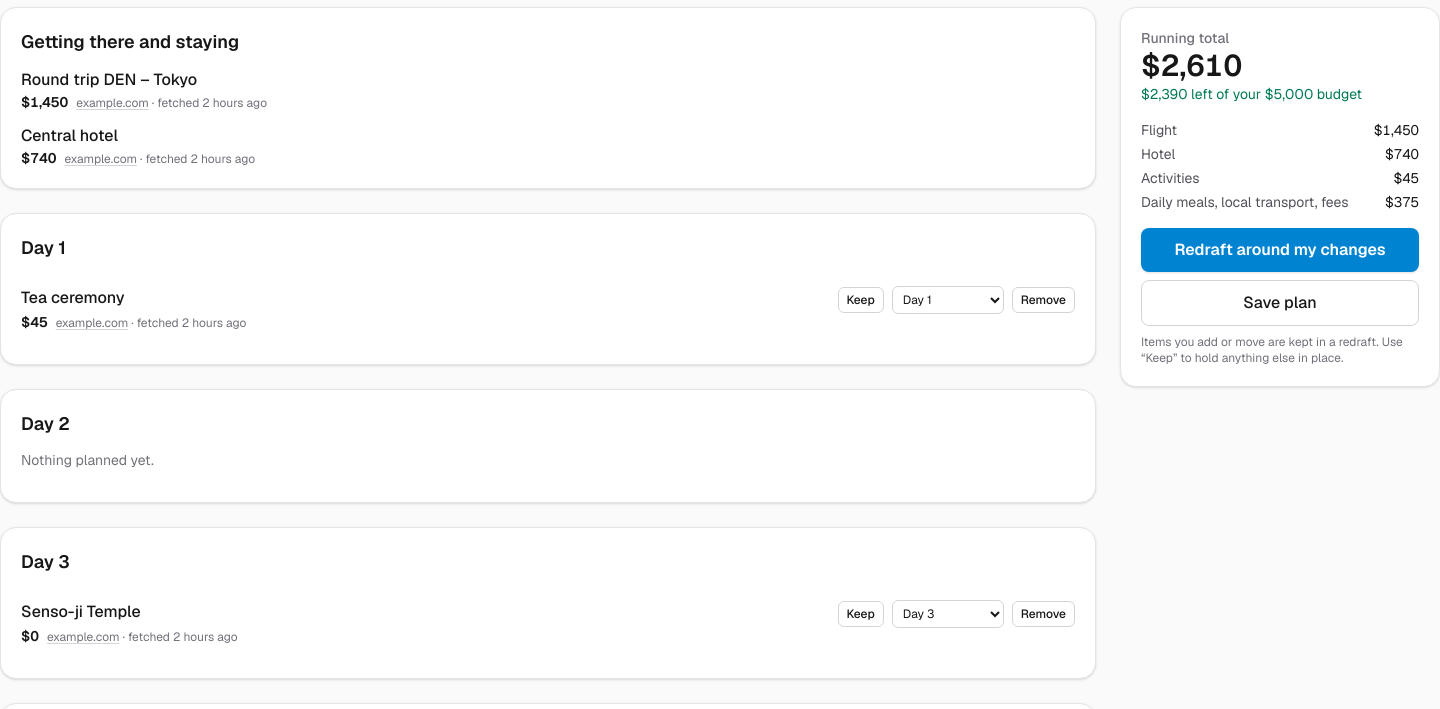
Test: PlanEditor › undo puts the plan back the way the planner left it
This screenshot has width=1440, height=709.
Expected: the button "Undo my changes" is not shown
Click the button with aria-label "Remove Tea ceremony" at (1043, 300), box [1012,287,1075,313]
(page scrolled)
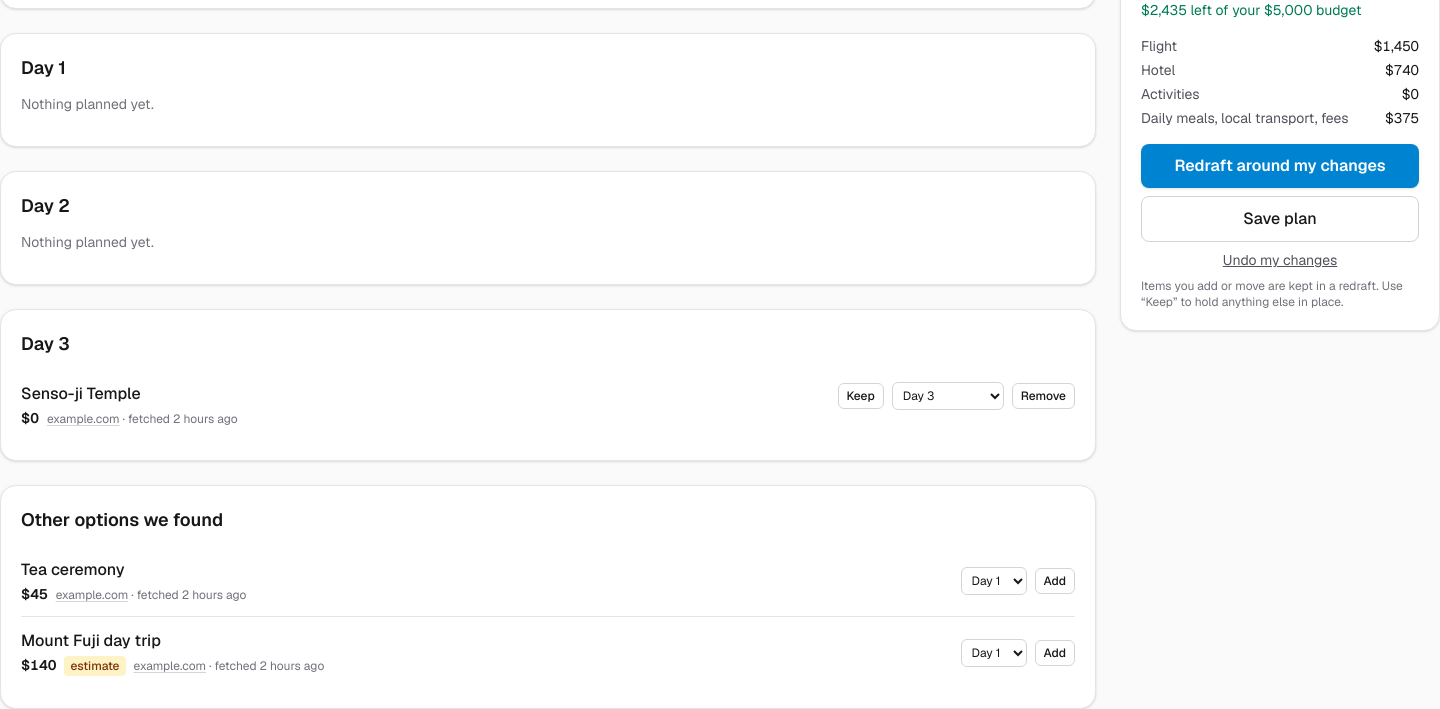
Click the button with aria-label "Add Mount Fuji day trip" at (1055, 652), box [1034,640,1075,666]
(page scrolled)
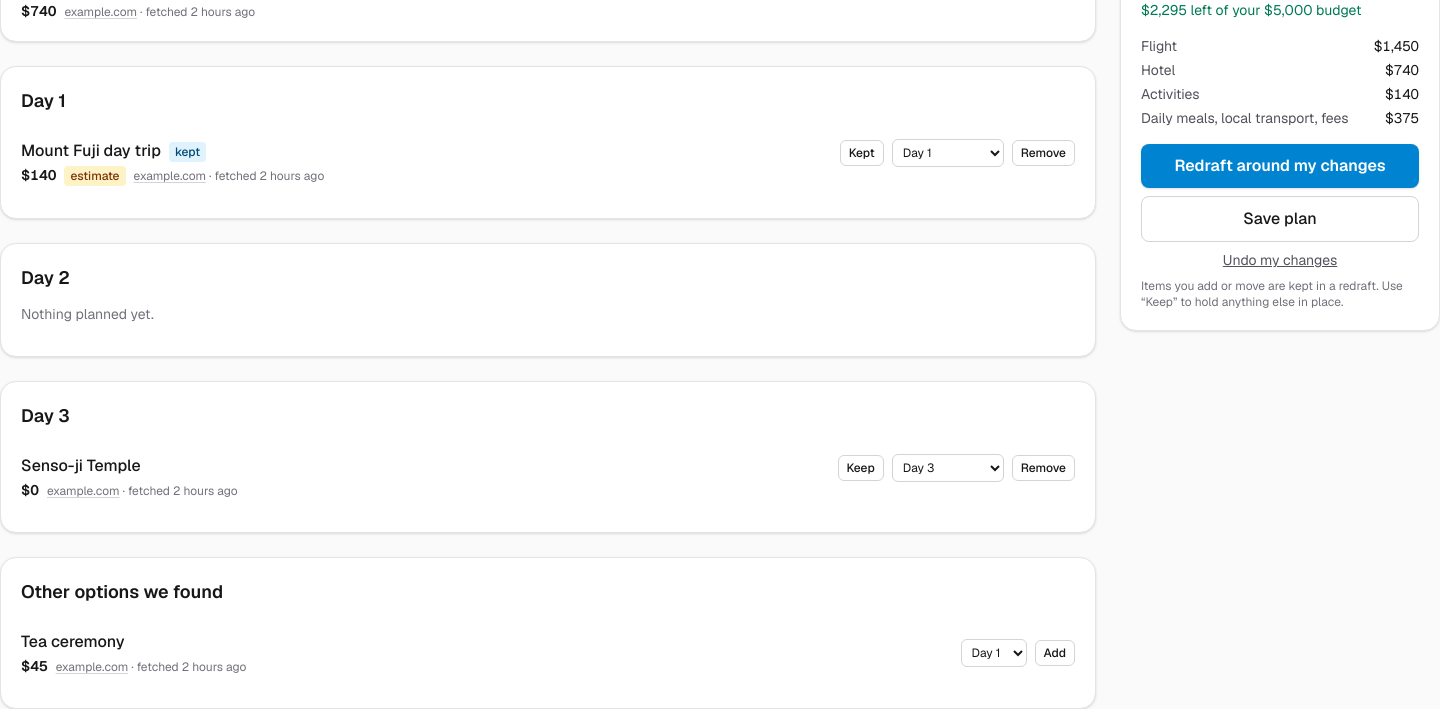
Click the button "Undo my changes" at (1280, 260), box [1141,250,1419,270]
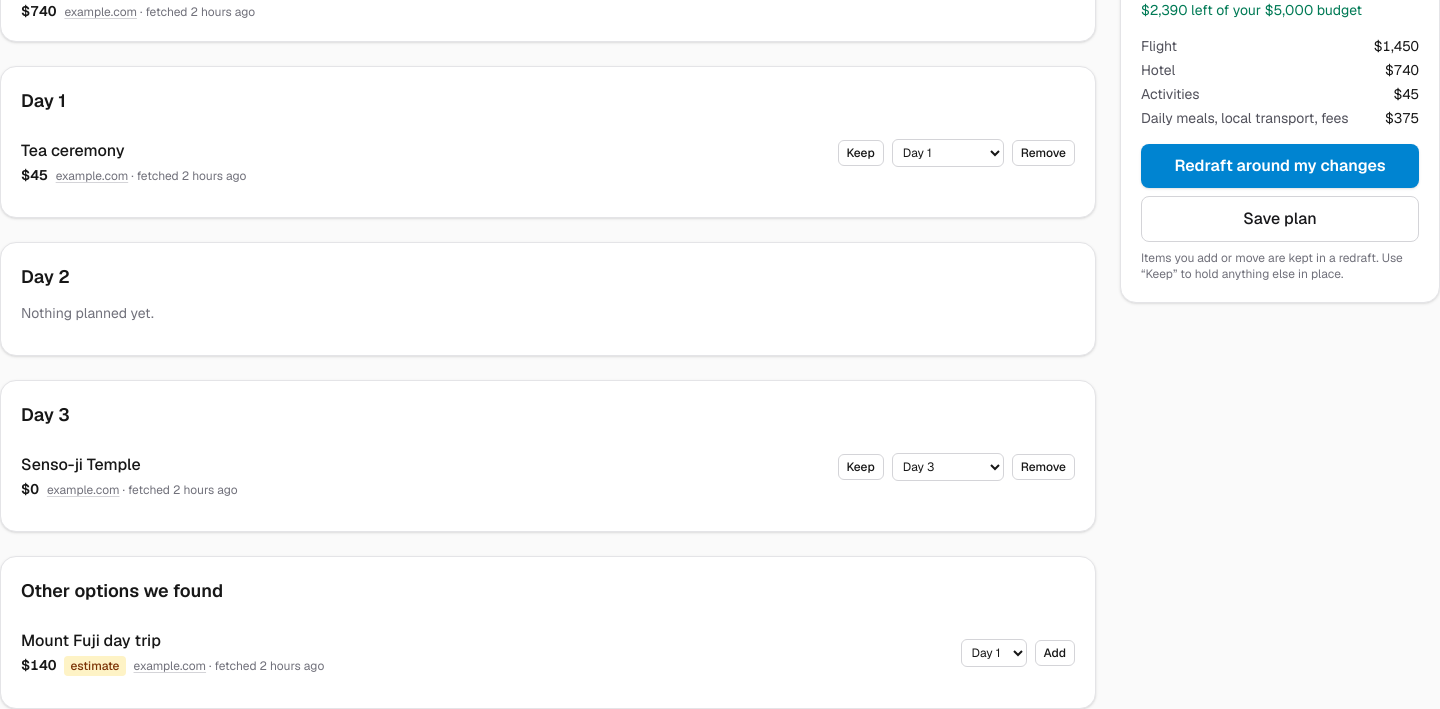
Expected: the text "Tea ceremony" is shown, [21,140,125,161]
Expected: the button "Undo my changes" is gone
